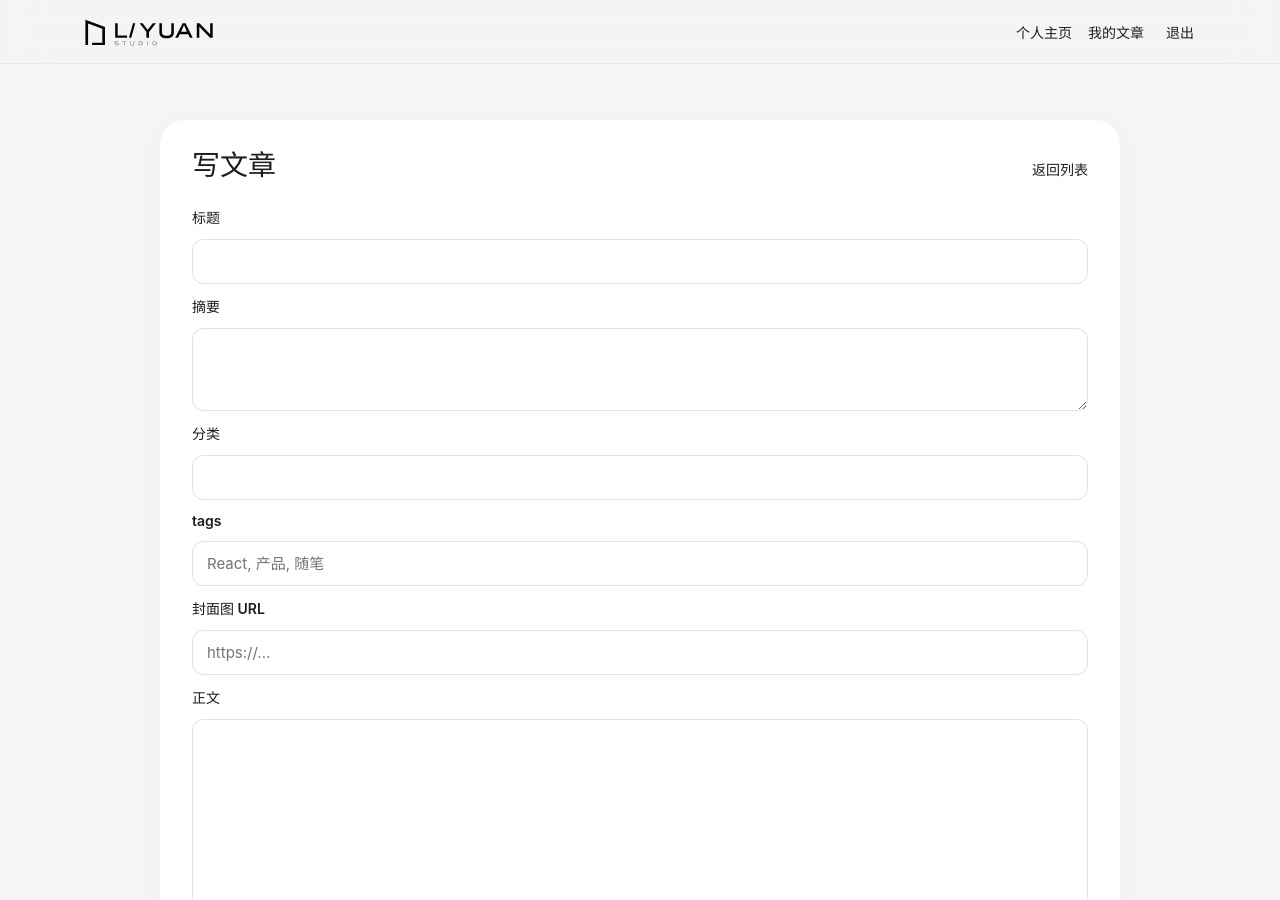
Test: ProfilePage › creates a draft from normalized editor fields and switches to its edit route
Expected: the heading "写文章" is shown, [192,152,276,179]
Type "Secure draft" into the field labelled "标题".
click(640, 262); type("Secure draft")  # box [192,239,1088,284]
Type "Summary" into the text box labelled "摘要".
click(640, 370); type("Summary")  # box [192,328,1088,411]
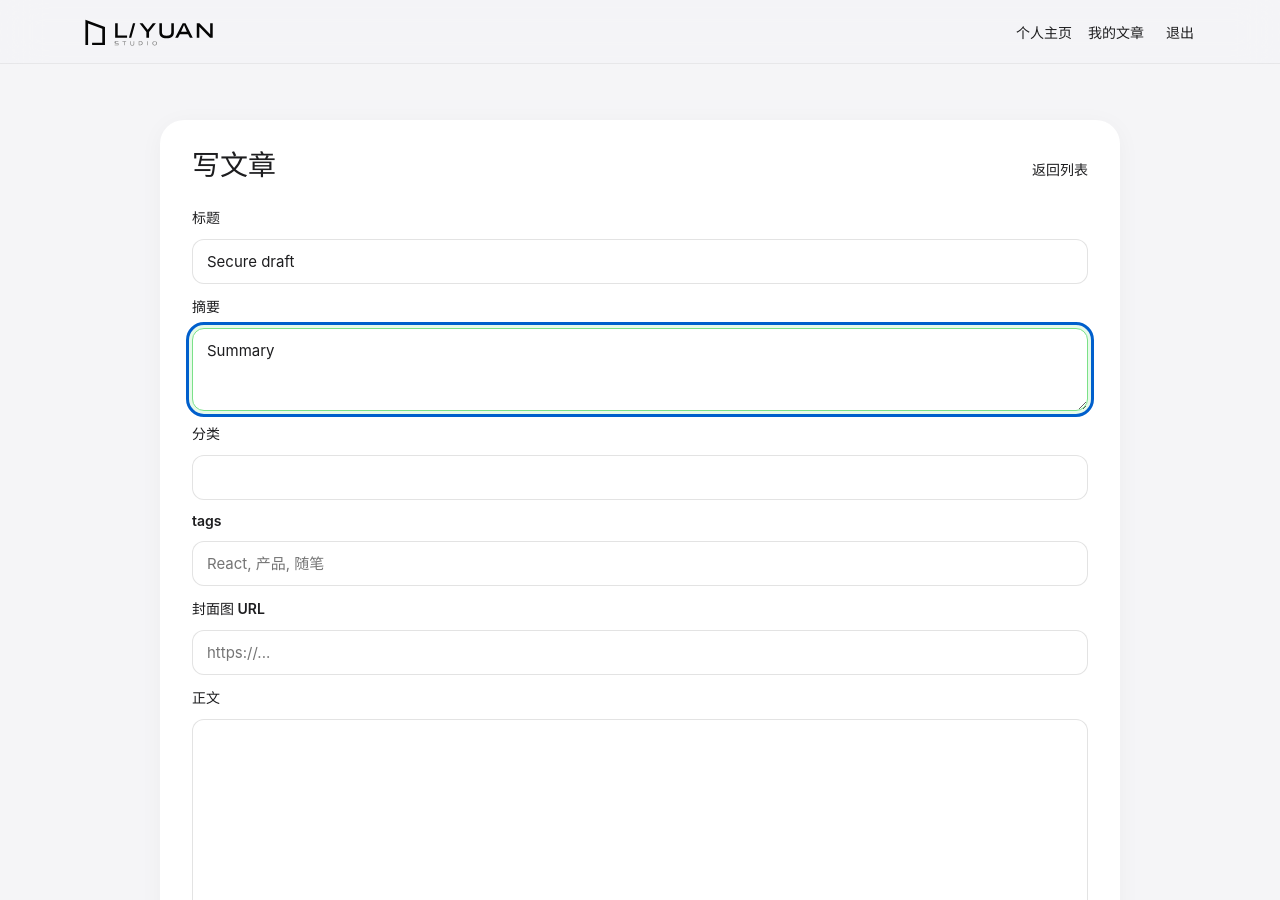
Type "Security" into the field labelled "分类".
click(640, 478); type("Security")  # box [192,455,1088,500]
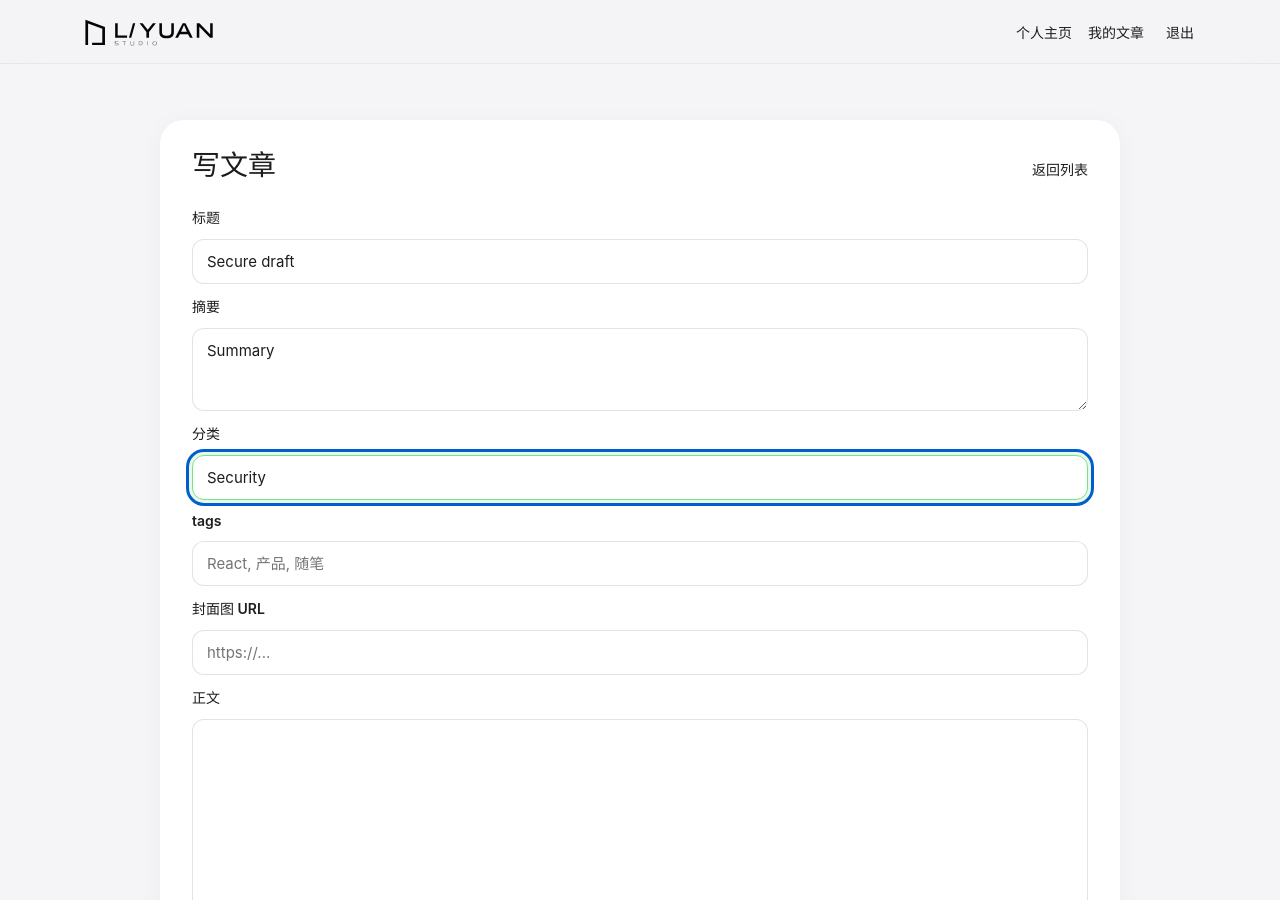
Type " auth, auth, 2FA, " into the field labelled "tags".
click(640, 564); type(" auth, auth, 2FA, ")  # box [192,541,1088,586]
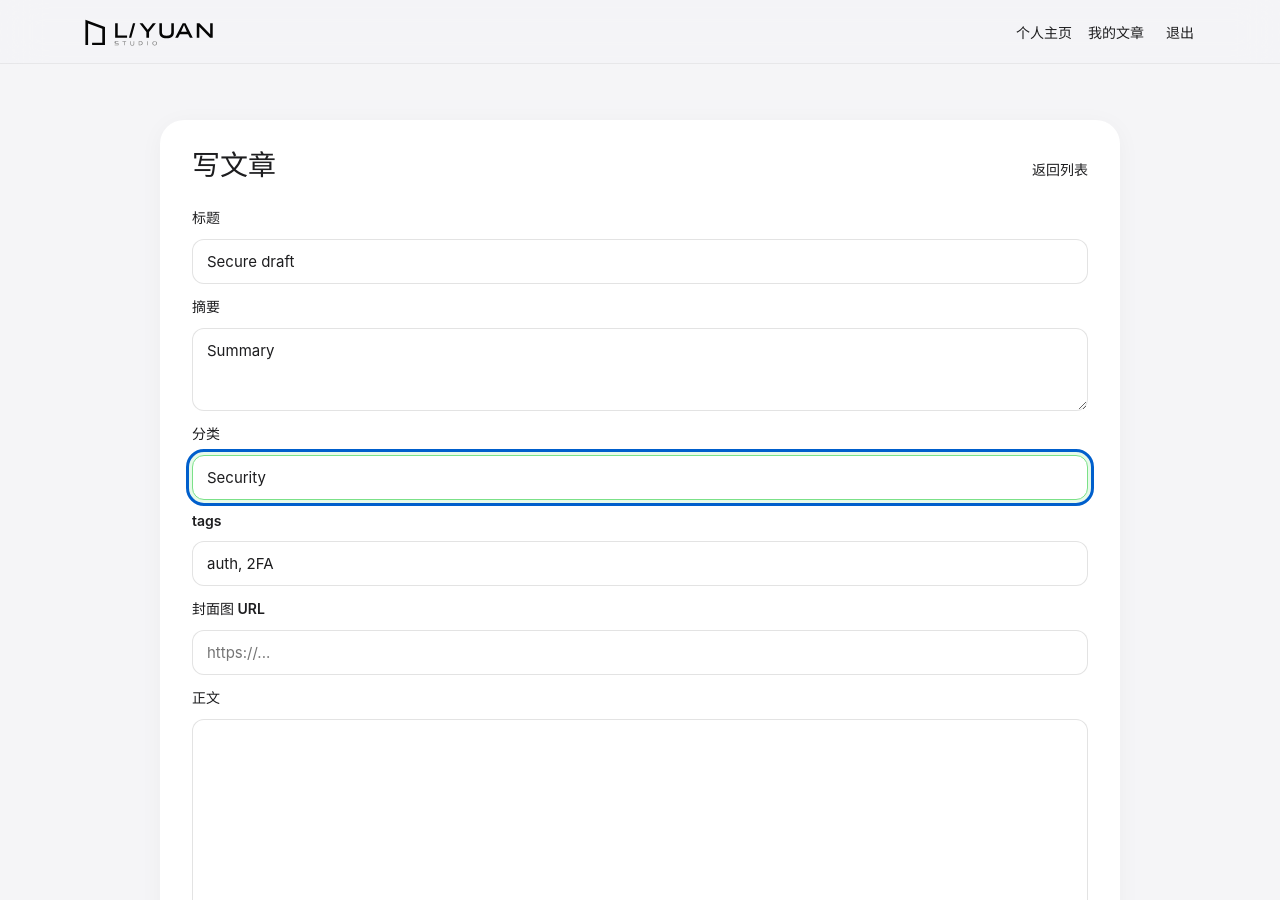
Type "https://example.com/cover.png" into the field labelled "封面图 URL".
click(640, 652); type("https://example.com/cover.png")  # box [192,630,1088,675]
(page scrolled)
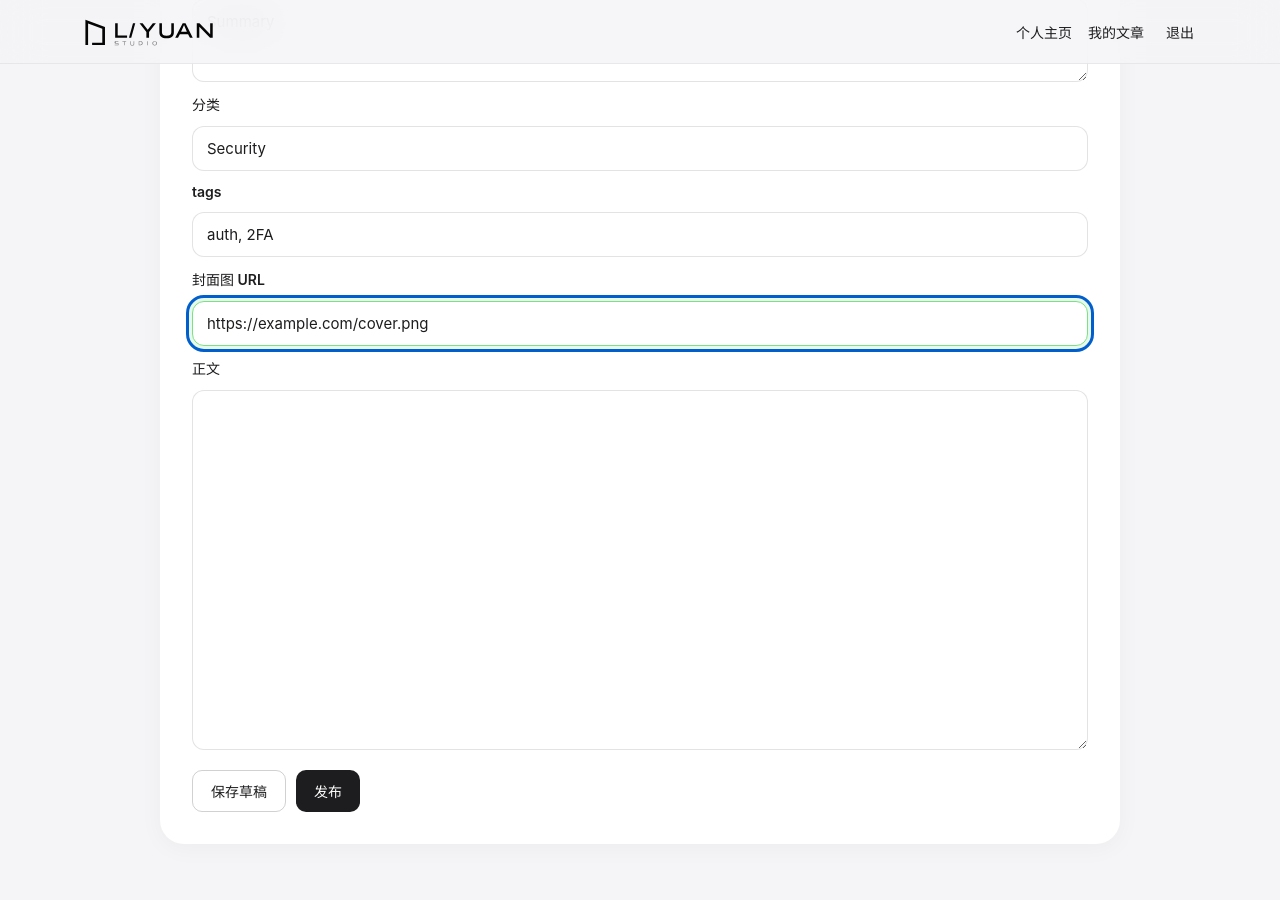
Type "Draft body" into the text box labelled "正文".
click(640, 570); type("Draft body")  # box [192,390,1088,750]
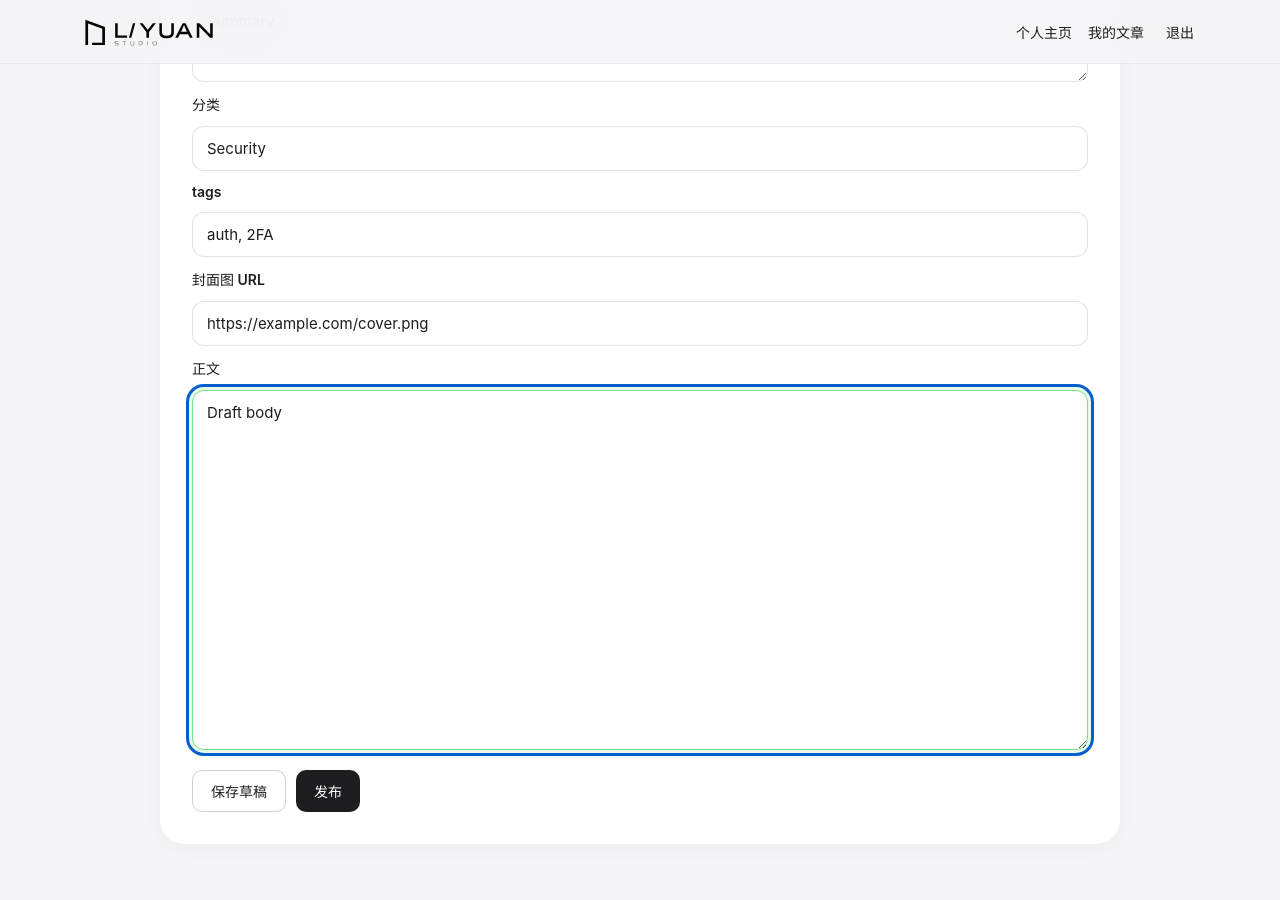
Click the button "保存草稿".
click(239, 791)  # box [192,770,286,812]
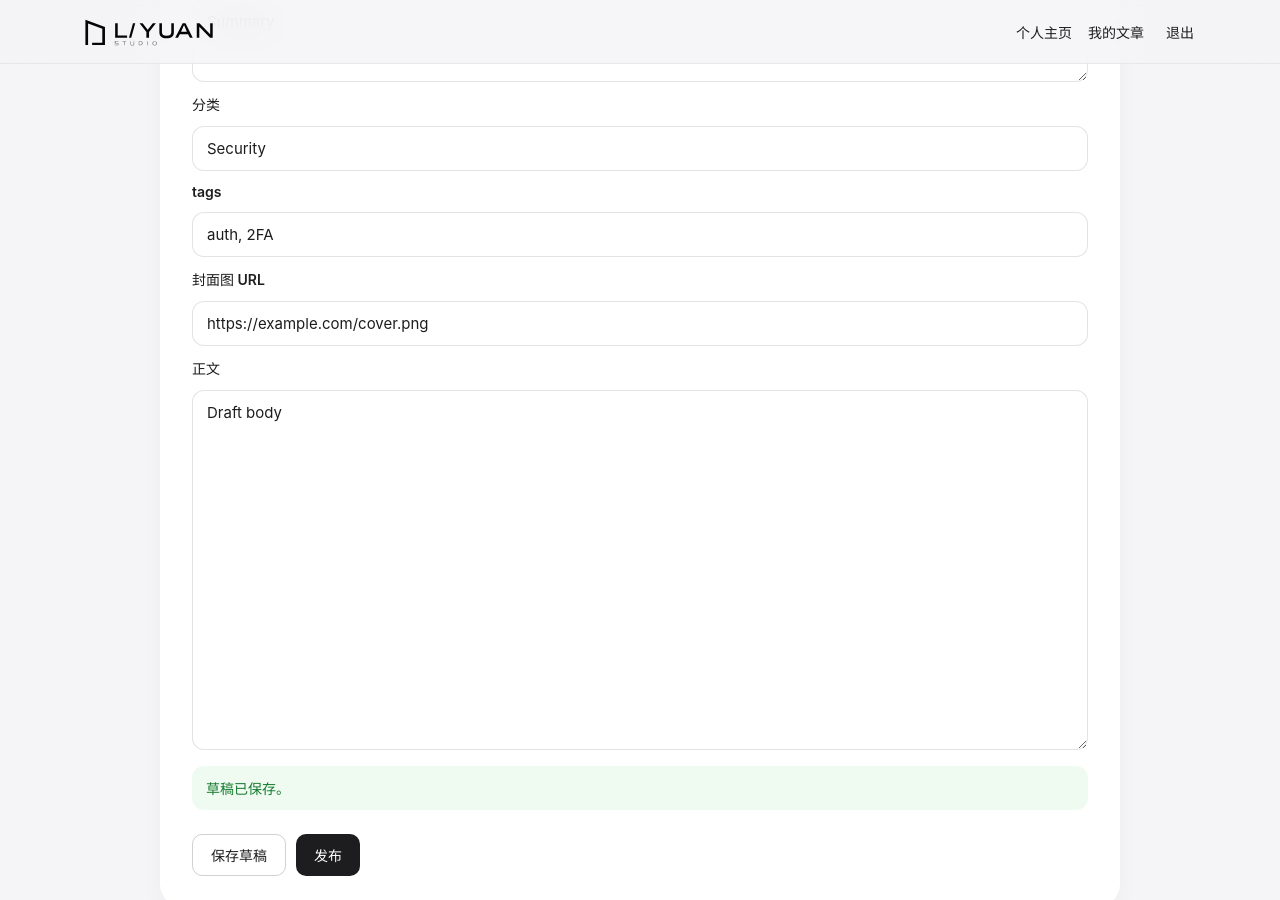
Expected: the message reads "草稿已保存。", [206,780,290,797]
